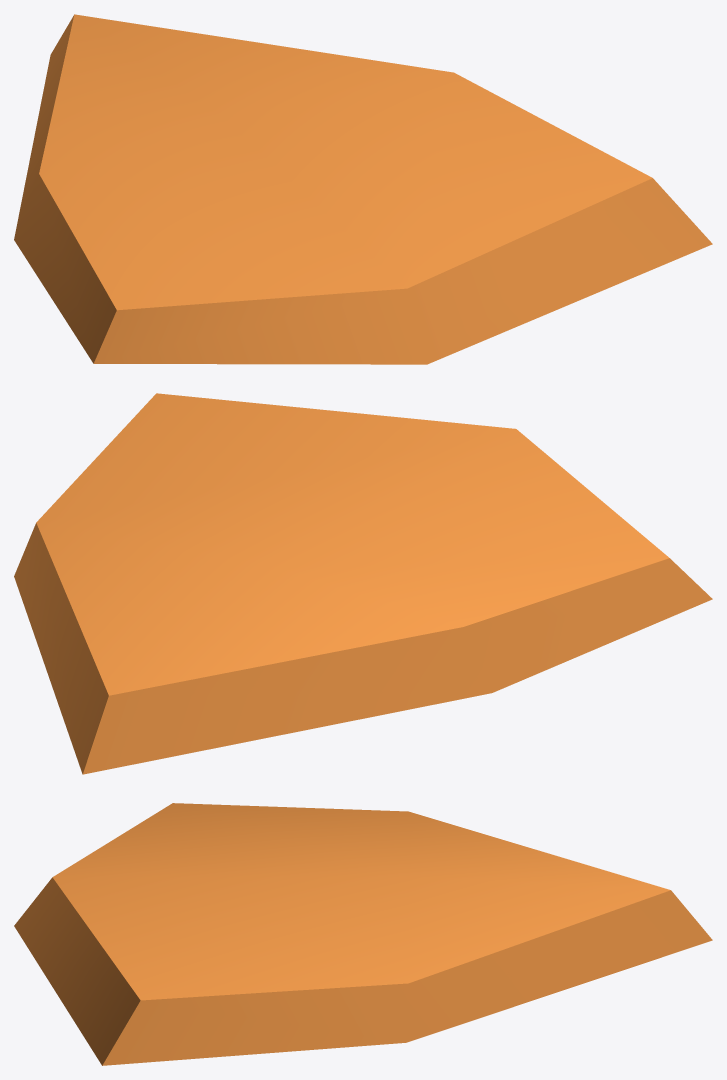
File: stone_12.FBX
The picture shows the model from 3 angles, top to bottom: view 1: azimuth 30°, elevation 25°; view 2: azimuth 150°, elevation 25°; view 3: azimuth 270°, elevation 25°; orthographic projection. The views are drawn at different scales.
Parts seen in each view (by area): view 1: stone_12; view 2: stone_12; view 3: stone_12.
Boxes of the visible parts, x1=… form: stone_12: x1=14, y1=14, x2=712, y2=364; stone_12: x1=14, y1=393, x2=712, y2=774; stone_12: x1=14, y1=803, x2=712, y2=1065.
Size of the model in its own units: 0.3898 by 0.0453 by 0.4732.
Materials: 1 (1 with a texture image).
